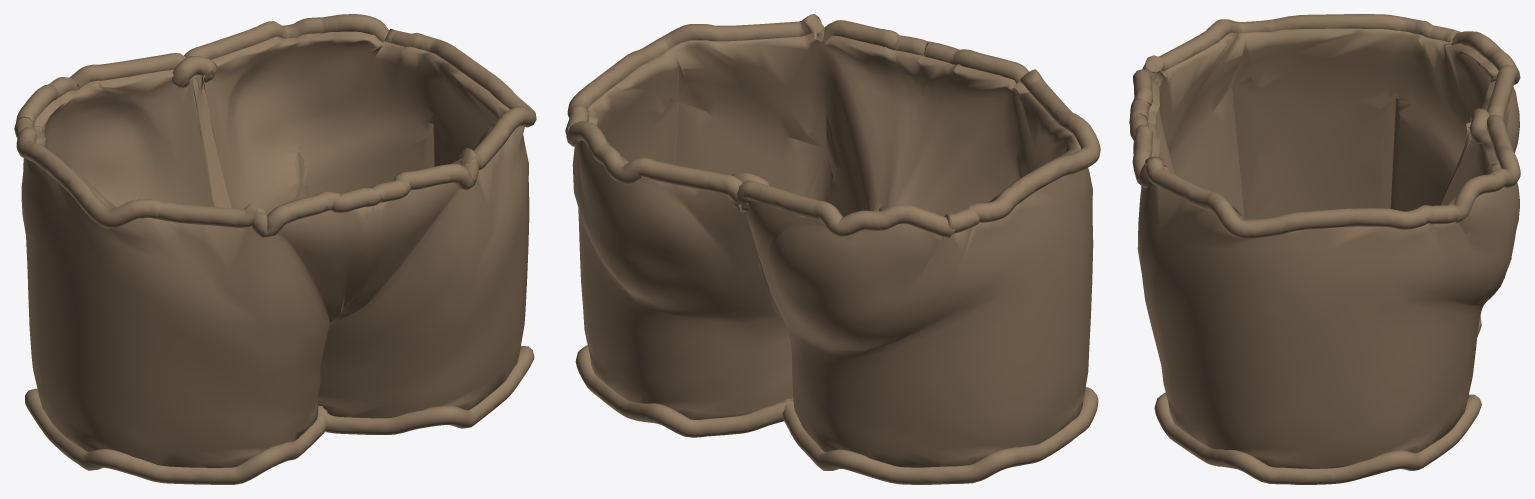
File: 2HT-masculino.glb
3 renders of one model, left to right at view 1: azimuth 30°, elevation 25°; view 2: azimuth 150°, elevation 25°; view 3: azimuth 270°, elevation 25°, orthographic. The views are drawn at different scales.
Parts seen in each view (by area): view 1: fitted-shell, bound-edge (×3); view 2: fitted-shell, bound-edge (×3); view 3: fitted-shell, bound-edge (×2).
Part boxes in pixels (x1,y1,x2,y2): fitted-shell: [21, 31, 529, 467]; bound-edge (×3): [14, 14, 536, 484]; fitted-shell: [572, 24, 1093, 467]; bound-edge (×3): [565, 14, 1100, 484]; fitted-shell: [1133, 28, 1519, 468]; bound-edge (×2): [1129, 14, 1520, 484].
Bounding box in the file's own units: 0.0347 × 0.0217 × 0.0275.
